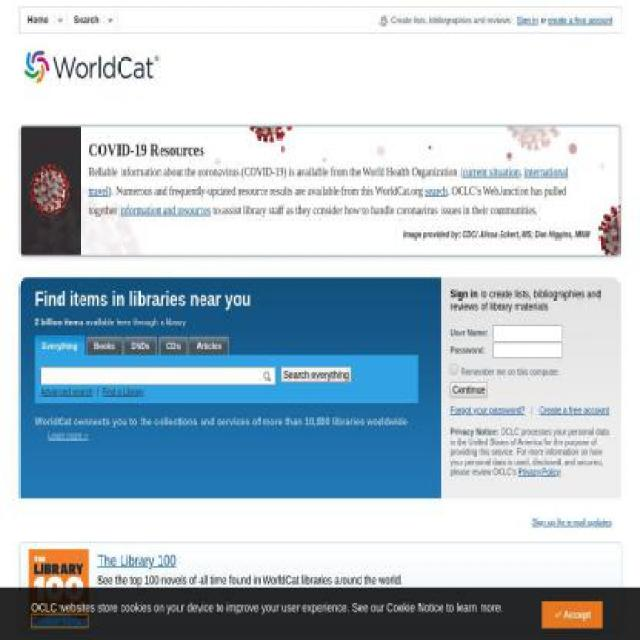button: (68, 10, 119, 30), (21, 10, 68, 30), (34, 337, 86, 355), (189, 337, 229, 355), (86, 337, 123, 355), (124, 337, 158, 355), (553, 622, 592, 636), (158, 337, 188, 355)
field: (40, 366, 277, 385), (493, 324, 562, 342), (280, 366, 352, 382), (493, 343, 562, 359), (450, 380, 488, 398), (451, 364, 458, 374)
